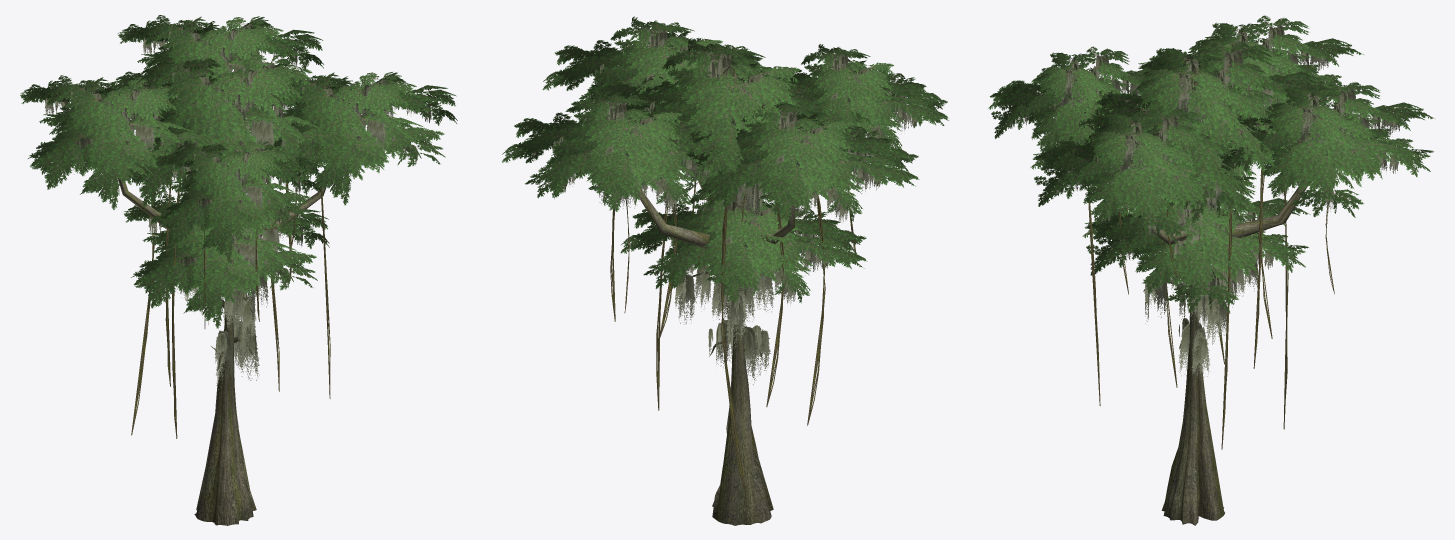
Rendered from jungle_tree.glb.
The picture shows the model from 3 angles, left to right: view 1: azimuth 30°, elevation 25°; view 2: azimuth 150°, elevation 25°; view 3: azimuth 270°, elevation 25°; orthographic projection. The views are drawn at different scales.
Parts seen in each view (by area): view 1: bald_cypress_03:Mesh_bald_cypress_03:Leaves_4_0_29, bald_cypress_03:Mesh_bald_cypress_03:Leaves_4_0.004_47, bald_cypress_03:Mesh_bald_cypress_03:Leaves_4_0.005_48, bald_cypress_03:Mesh_bald_cypress_03:Leaves_4_0.002_45, bald_cypress_03:Mesh_bald_cypress_03:Leaves_4_0.003_46, bald_cypress_03:Mesh_bald_cypress_03:Leaves_4_0.001_44, cypres_chauve_cypreschauve_bark_D_cypreschauve_bark_D_0_2, cypres_chauve_CypresChauve_mousse_D_CypresChauve_mousse_D_0_, pCylinder8_Vine01_0.007_19, pCylinder8_Vine01_0.012_24; view 2: bald_cypress_03:Mesh_bald_cypress_03:Leaves_4_0.004_47, bald_cypress_03:Mesh_bald_cypress_03:Leaves_4_0.001_44, bald_cypress_03:Mesh_bald_cypress_03:Leaves_4_0.003_46, bald_cypress_03:Mesh_bald_cypress_03:Leaves_4_0_29, bald_cypress_03:Mesh_bald_cypress_03:Leaves_4_0.002_45, bald_cypress_03:Mesh_bald_cypress_03:Leaves_4_0.005_48, cypres_chauve_cypreschauve_bark_D_cypreschauve_bark_D_0_2, cypres_chauve_CypresChauve_mousse_D_CypresChauve_mousse_D_0_, pCylinder8_Vine01_0.007_19, bald_cypress_03:Mesh_bald_cypress_03:Branches_3_0_59, pCylinder8_Vine01_0.008_20, pCylinder8_Vine01_0.005_17 (+1 smaller); view 3: bald_cypress_03:Mesh_bald_cypress_03:Leaves_4_0_29, bald_cypress_03:Mesh_bald_cypress_03:Leaves_4_0.005_48, bald_cypress_03:Mesh_bald_cypress_03:Leaves_4_0.001_44, bald_cypress_03:Mesh_bald_cypress_03:Leaves_4_0.003_46, bald_cypress_03:Mesh_bald_cypress_03:Leaves_4_0.002_45, bald_cypress_03:Mesh_bald_cypress_03:Leaves_4_0.004_47, cypres_chauve_cypreschauve_bark_D_cypreschauve_bark_D_0_2, cypres_chauve_CypresChauve_mousse_D_CypresChauve_mousse_D_0_, bald_cypress_03:Mesh_bald_cypress_03:Branches_3_0_59, pCylinder8_Vine01_0.011_23, pCylinder8_Vine01_0.012_24, pCylinder8_Vine01_0.010_22 (+1 smaller).
Boxes of the visible parts, x1,y1,x2,y2 form: bald_cypress_03:Mesh_bald_cypress_03:Leaves_4_0_29: (110,53,351,208); bald_cypress_03:Mesh_bald_cypress_03:Leaves_4_0.004_47: (20,75,212,209); bald_cypress_03:Mesh_bald_cypress_03:Leaves_4_0.005_48: (269,71,457,205); bald_cypress_03:Mesh_bald_cypress_03:Leaves_4_0.002_45: (155,140,322,262); bald_cypress_03:Mesh_bald_cypress_03:Leaves_4_0.003_46: (124,194,329,328); bald_cypress_03:Mesh_bald_cypress_03:Leaves_4_0.001_44: (117,15,323,120); cypres_chauve_cypreschauve_bark_D_cypreschauve_bark_D_0_2: (194,75,256,525); cypres_chauve_CypresChauve_mousse_D_CypresChauve_mousse_D_0_: (180,121,279,389); pCylinder8_Vine01_0.007_19: (131,199,155,435); pCylinder8_Vine01_0.012_24: (320,173,330,398); bald_cypress_03:Mesh_bald_cypress_03:Leaves_4_0.004_47: (677,102,919,221); bald_cypress_03:Mesh_bald_cypress_03:Leaves_4_0.001_44: (502,89,741,214); bald_cypress_03:Mesh_bald_cypress_03:Leaves_4_0.003_46: (620,192,867,303); bald_cypress_03:Mesh_bald_cypress_03:Leaves_4_0_29: (589,38,873,206); bald_cypress_03:Mesh_bald_cypress_03:Leaves_4_0.002_45: (765,44,948,152); bald_cypress_03:Mesh_bald_cypress_03:Leaves_4_0.005_48: (542,16,773,123); cypres_chauve_cypreschauve_bark_D_cypreschauve_bark_D_0_2: (682,67,773,525); cypres_chauve_CypresChauve_mousse_D_CypresChauve_mousse_D_0_: (674,183,774,385); pCylinder8_Vine01_0.007_19: (721,205,747,500); bald_cypress_03:Mesh_bald_cypress_03:Branches_3_0_59: (638,189,709,248); pCylinder8_Vine01_0.008_20: (807,194,825,425); pCylinder8_Vine01_0.005_17: (766,205,784,406); bald_cypress_03:Mesh_bald_cypress_03:Leaves_4_0_29: (1069,39,1335,224); bald_cypress_03:Mesh_bald_cypress_03:Leaves_4_0.005_48: (1030,106,1256,244); bald_cypress_03:Mesh_bald_cypress_03:Leaves_4_0.001_44: (1217,80,1434,217); bald_cypress_03:Mesh_bald_cypress_03:Leaves_4_0.003_46: (1082,182,1310,313); bald_cypress_03:Mesh_bald_cypress_03:Leaves_4_0.002_45: (988,46,1152,153); bald_cypress_03:Mesh_bald_cypress_03:Leaves_4_0.004_47: (1137,15,1363,122); cypres_chauve_cypreschauve_bark_D_cypreschauve_bark_D_0_2: (1143,69,1224,525); cypres_chauve_CypresChauve_mousse_D_CypresChauve_mousse_D_0_: (1144,199,1258,378); bald_cypress_03:Mesh_bald_cypress_03:Branches_3_0_59: (1232,138,1308,237); pCylinder8_Vine01_0.011_23: (1221,204,1232,449); pCylinder8_Vine01_0.012_24: (1087,185,1100,405); pCylinder8_Vine01_0.010_22: (1253,169,1262,368).
Bounding box in the file's own units: 29.58 × 31.51 × 28.31.
6 materials, 6 textured.
